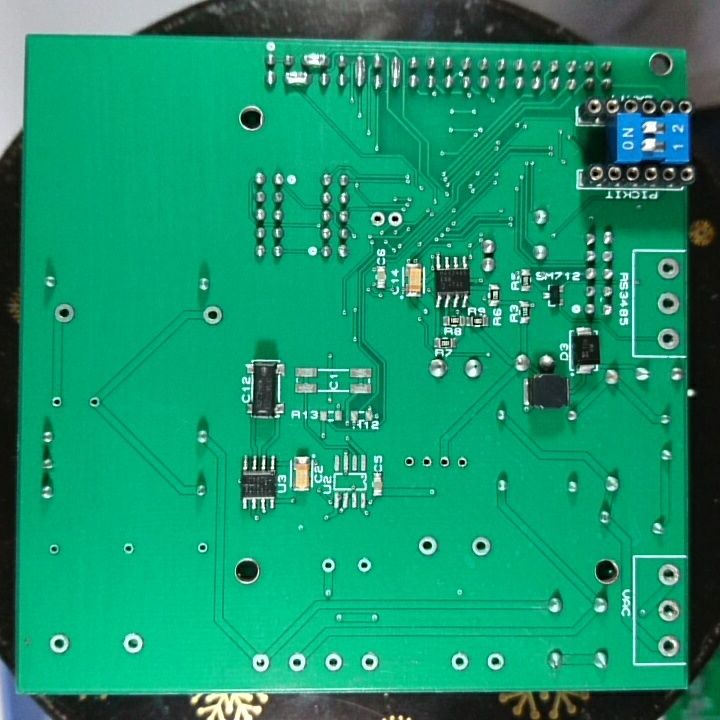F: (654, 255, 682, 283), (654, 289, 682, 316), (655, 325, 682, 352), (654, 597, 682, 623), (655, 632, 681, 660), (414, 532, 440, 560), (655, 562, 682, 588), (120, 631, 146, 658), (468, 533, 494, 560), (51, 300, 77, 326), (199, 303, 225, 326), (47, 632, 71, 656), (250, 650, 273, 675), (448, 649, 471, 673), (285, 651, 308, 675), (485, 649, 507, 672), (322, 651, 345, 673), (358, 651, 380, 673), (399, 452, 419, 473), (419, 449, 436, 473), (354, 555, 374, 575), (319, 555, 338, 576), (436, 449, 453, 472), (368, 208, 386, 229), (454, 451, 471, 472), (386, 210, 404, 229), (85, 394, 105, 411), (48, 392, 65, 411), (194, 538, 210, 558), (46, 540, 63, 558), (120, 540, 137, 556)
P: (301, 51, 332, 72), (352, 52, 368, 92), (282, 69, 312, 89), (388, 52, 403, 90)
